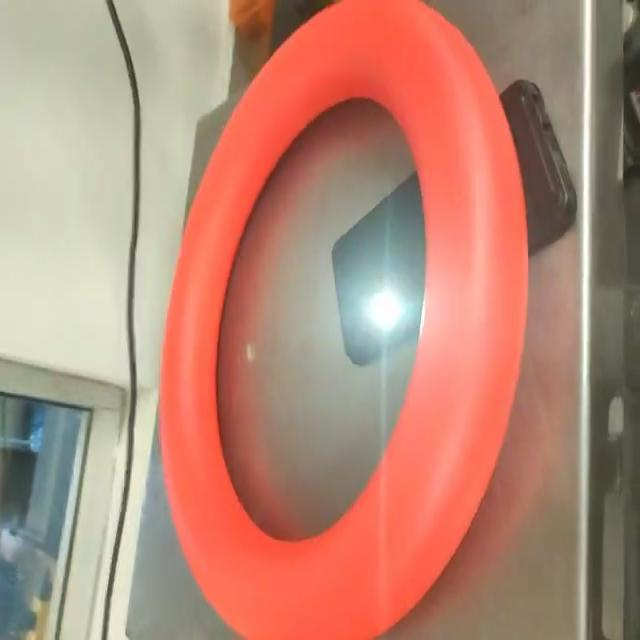note: (160, 0, 534, 640)
